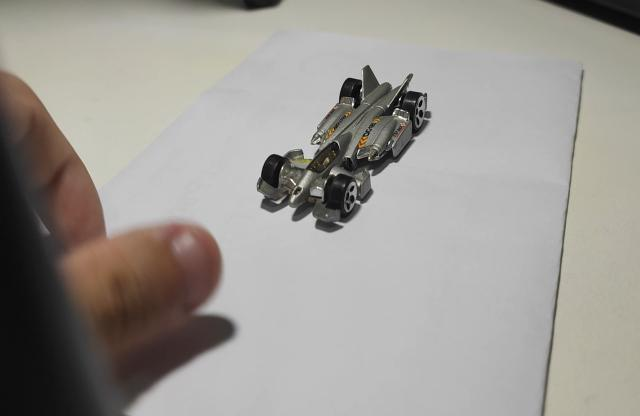05_DC121: (255, 67, 433, 233)
